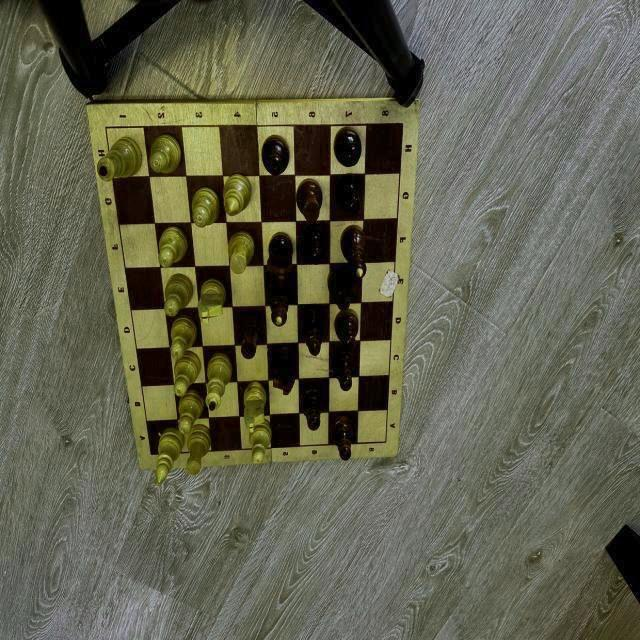chess-table-corners: (101, 122, 111, 134), (398, 118, 406, 130), (148, 450, 156, 459), (382, 438, 390, 446)
